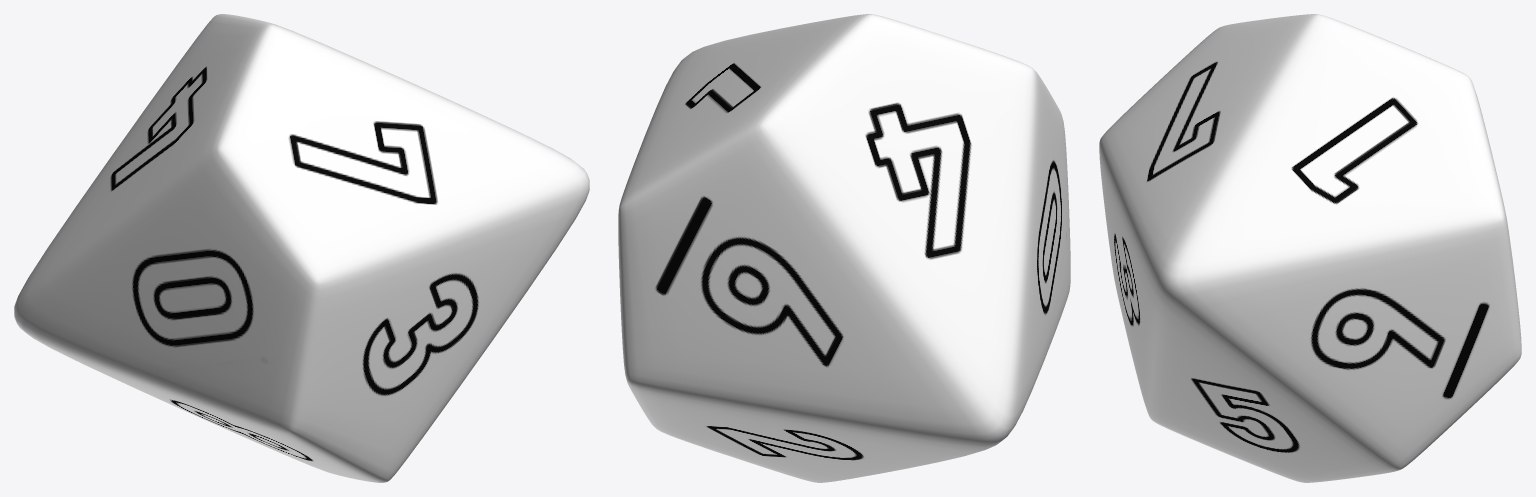
File: dice10.fbx
The picture shows the model from 3 angles, left to right: view 1: azimuth 30°, elevation 25°; view 2: azimuth 150°, elevation 25°; view 3: azimuth 270°, elevation 25°; orthographic projection. The views are drawn at different scales.
Parts seen in each view (by area): view 1: Cone; view 2: Cone; view 3: Cone.
Boxes of the visible parts, x1=… form: Cone: x1=14, y1=14, x2=589, y2=482; Cone: x1=618, y1=14, x2=1070, y2=482; Cone: x1=1099, y1=14, x2=1521, y2=482.
Size of the model in its own units: 172 by 170 by 148.
